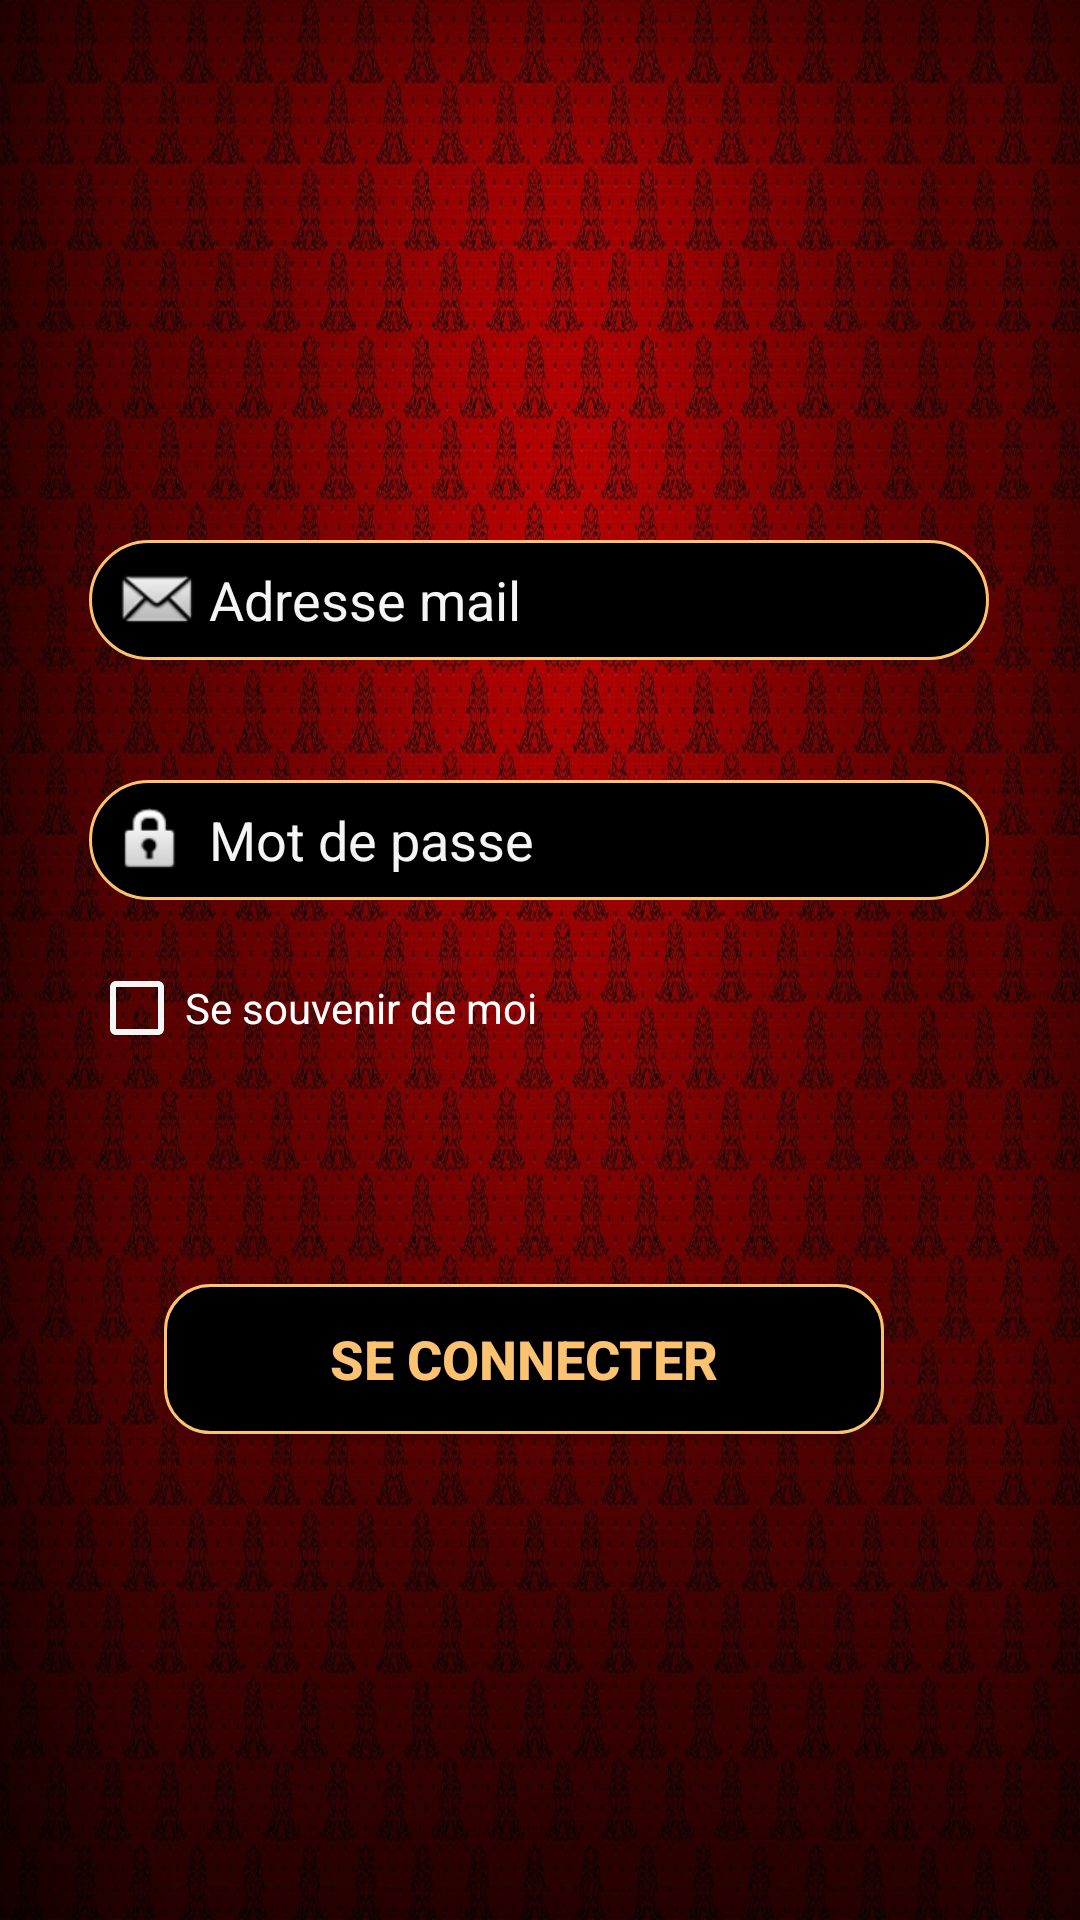

Named icons in this screenshot (1080w x 1920h) and their centers, (x,y):
Petit Cadenas: (149,838)
Petite enveloppe: (157,599)
